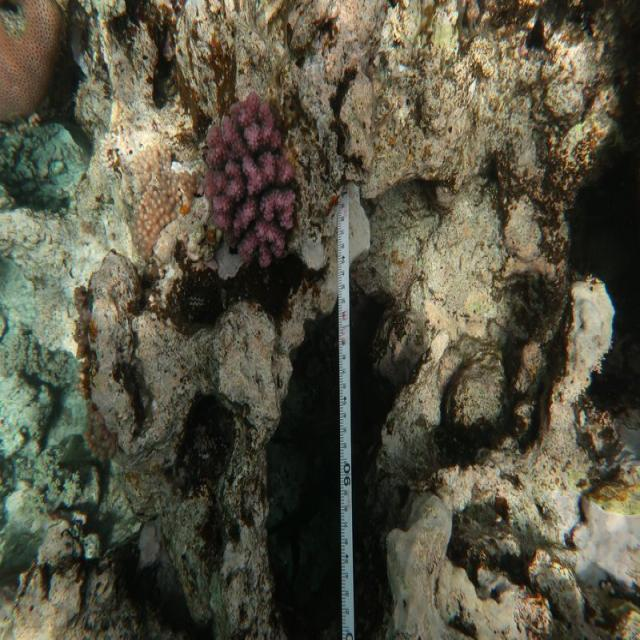Healthy Coral: (202, 92, 314, 282), (0, 1, 81, 131)
